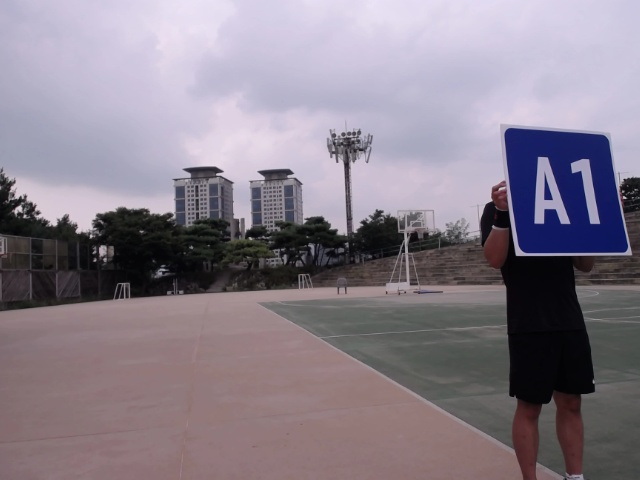delivery_a1: (503, 125, 630, 255)
